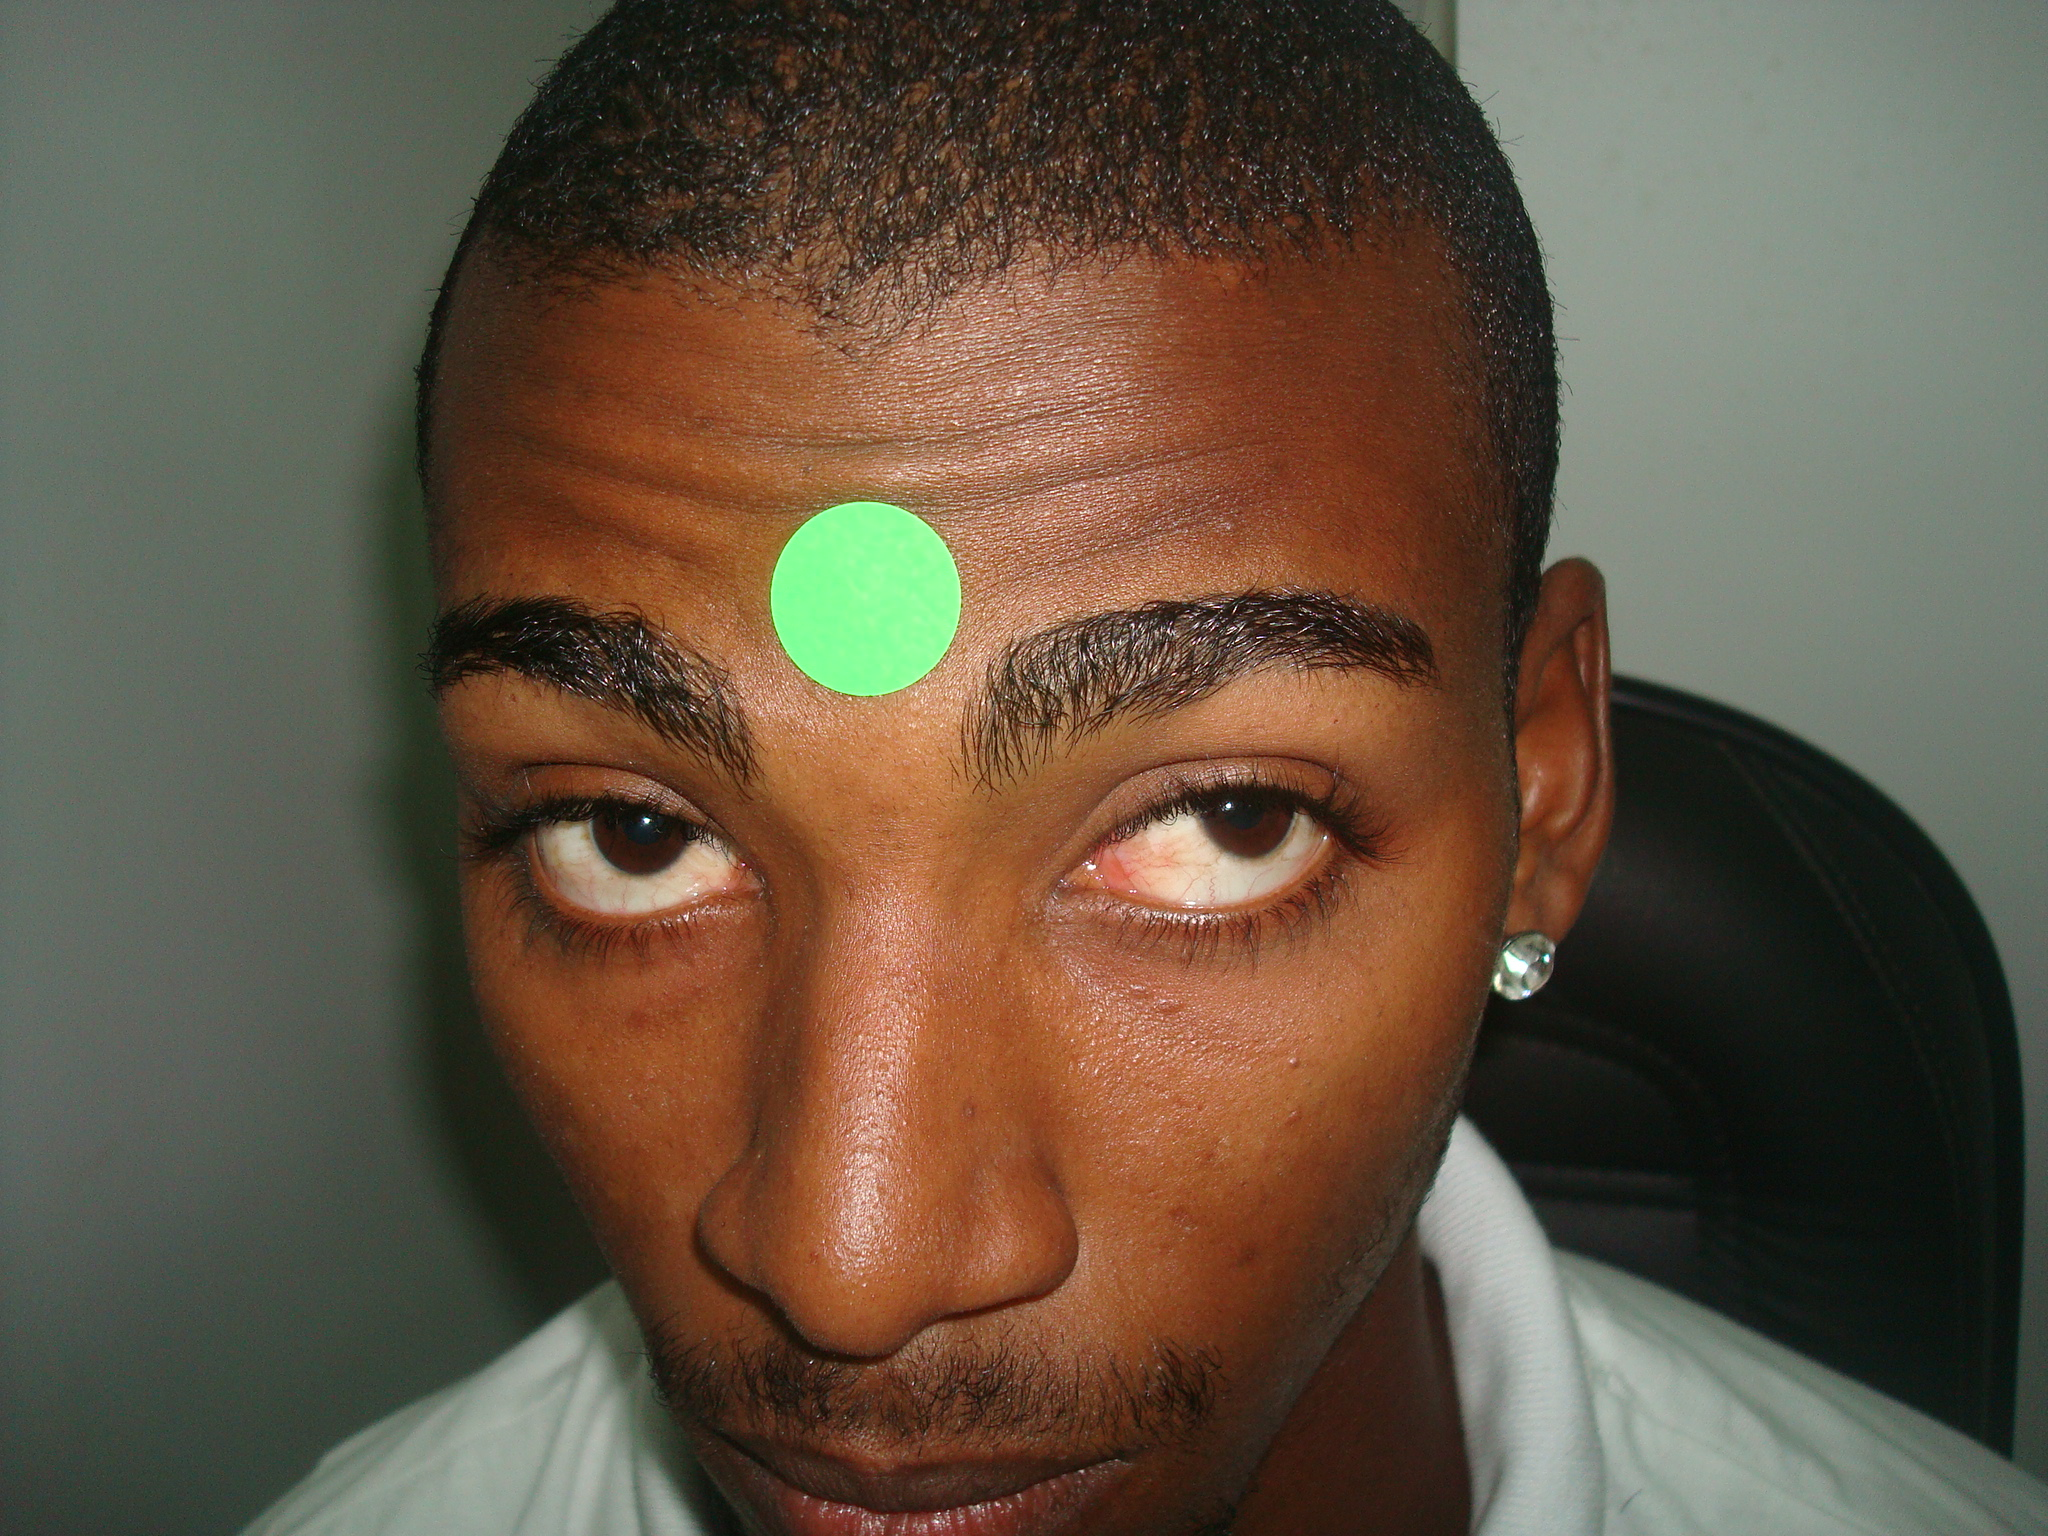flash: (1222, 799, 1234, 812), (640, 815, 651, 826)
limbo: (597, 779, 692, 865), (1197, 766, 1288, 852)
